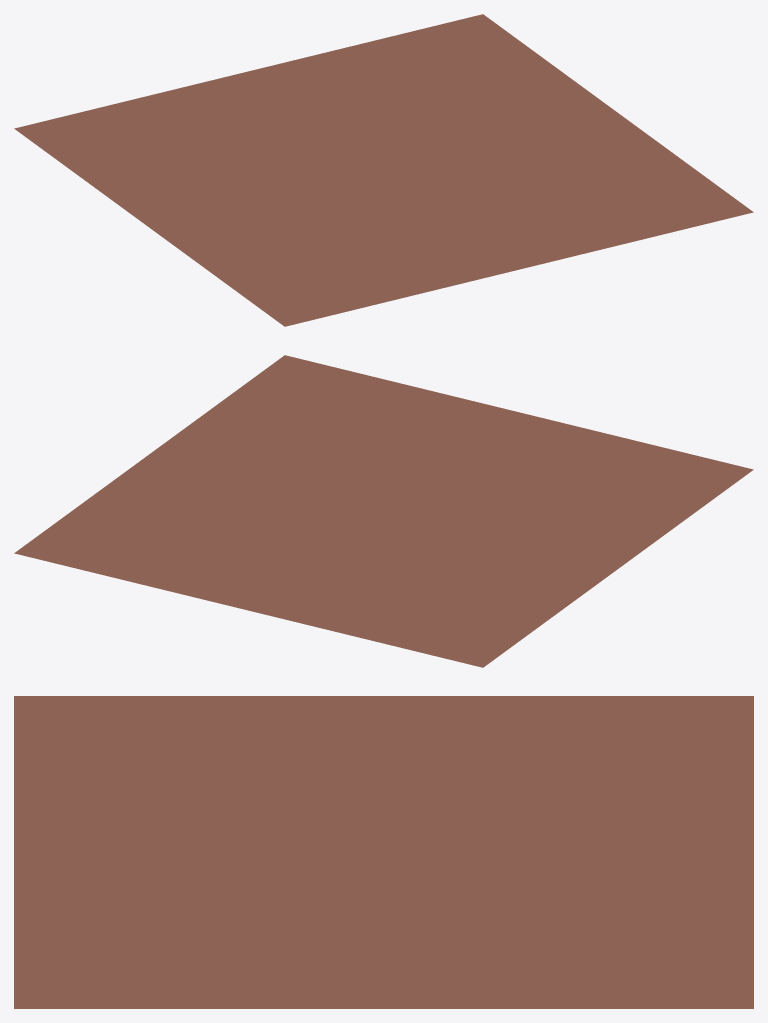
The model's file is Full_Road.fbx.
3 views of the same model, one above another, from view 1: azimuth 30°, elevation 25°; view 2: azimuth 150°, elevation 25°; view 3: azimuth 270°, elevation 25° (orthographic). The views are drawn at different scales.
Parts seen in each view (by area): view 1: Plan.015; view 2: Plan.015; view 3: Plan.015.
Part boxes in pixels (box(x1,y1,x2,y2)): Plan.015: box(14, 14, 753, 326); Plan.015: box(14, 355, 753, 667); Plan.015: box(14, 696, 753, 1008).
Size of the model in its own units: 800 by 0.000172 by 800.
